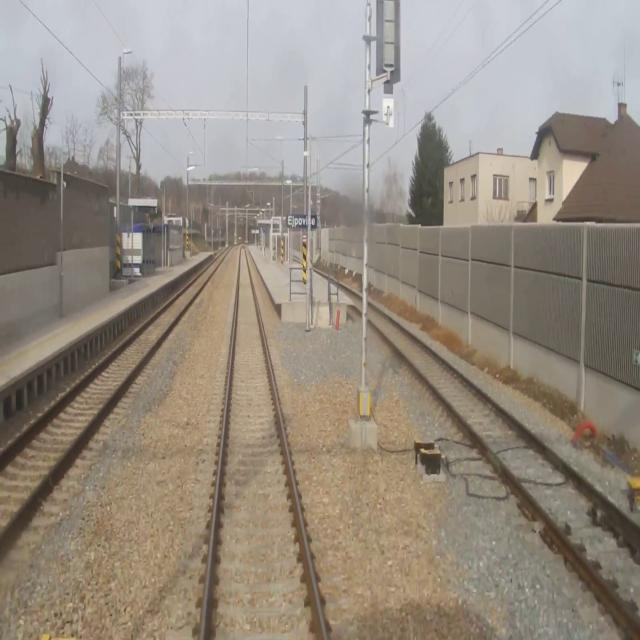rail-track: (368, 304, 640, 617), (0, 247, 230, 533), (204, 245, 323, 639), (326, 278, 362, 311)
